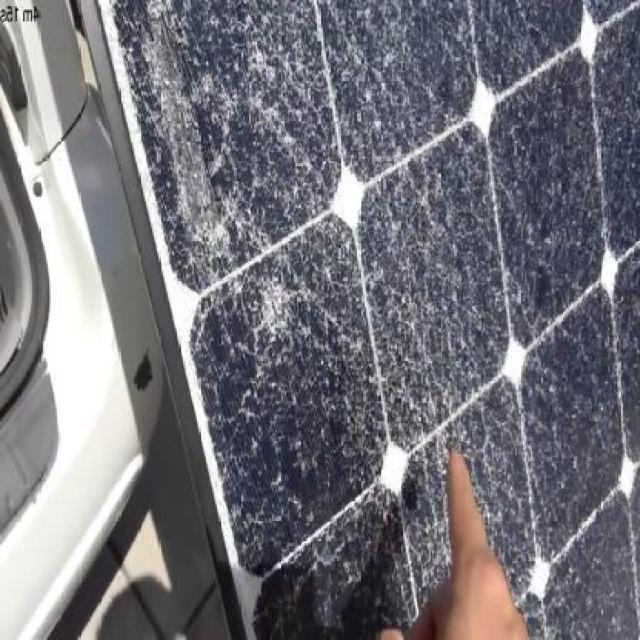cracked: (103, 4, 634, 636)
